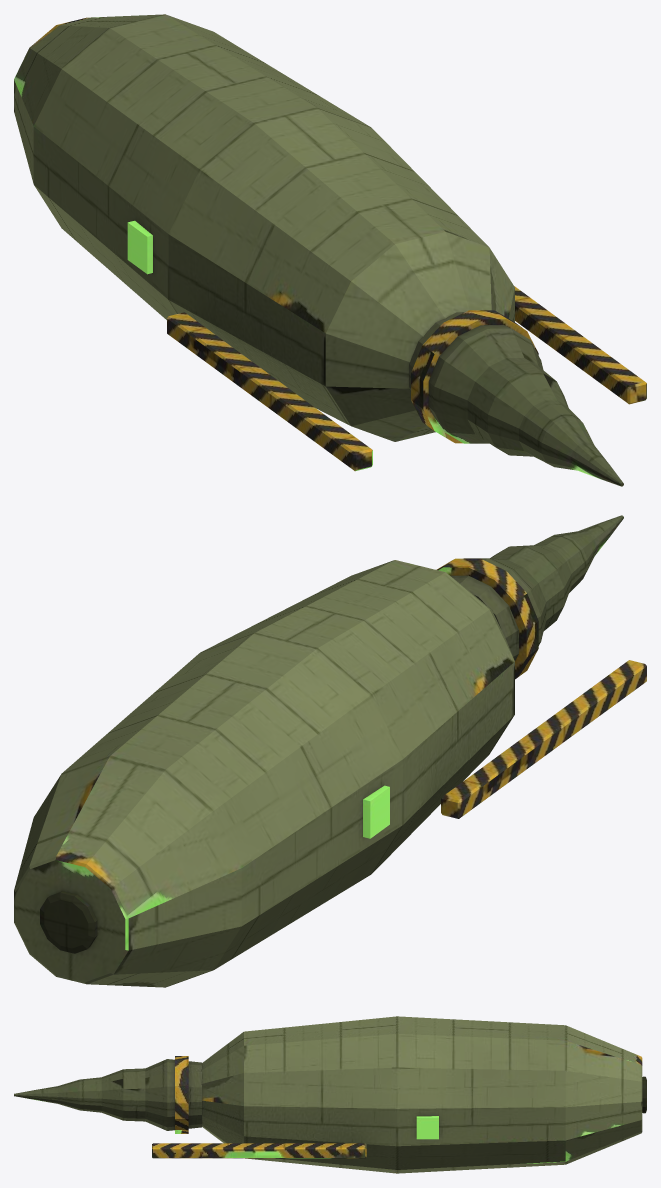
File: krell_craft.glb
3 renders of one model, top to bottom at view 1: azimuth 30°, elevation 25°; view 2: azimuth 150°, elevation 25°; view 3: azimuth 270°, elevation 25°, orthographic. The views are drawn at different scales.
Visible parts, largest first — view 1: HULL, SYS_WPN1, SYS_REACTOR; view 2: HULL, SYS_WPN1, SYS_DRIVE, SYS_REACTOR; view 3: HULL, SYS_WPN1, SYS_REACTOR.
Part boxes in pixels (x1=…): HULL: x1=14, y1=14, x2=646, y2=471; SYS_WPN1: x1=409, y1=310, x2=623, y2=486; SYS_REACTOR: x1=127, y1=220, x2=152, y2=274; HULL: x1=14, y1=560, x2=646, y2=987; SYS_WPN1: x1=436, y1=515, x2=623, y2=679; SYS_DRIVE: x1=40, y1=891, x2=97, y2=953; SYS_REACTOR: x1=363, y1=785, x2=389, y2=838; HULL: x1=152, y1=1016, x2=642, y2=1173; SYS_WPN1: x1=14, y1=1056, x2=201, y2=1133; SYS_REACTOR: x1=416, y1=1116, x2=438, y2=1139.
Size of the model in its own units: 1.66 by 1.33 by 5.45.
1 material, 1 textured.
